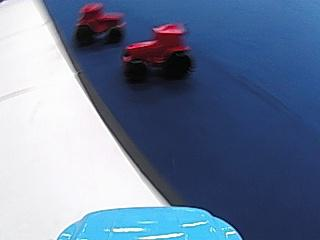Tracktor: (121, 19, 193, 81), (74, 1, 127, 48)
